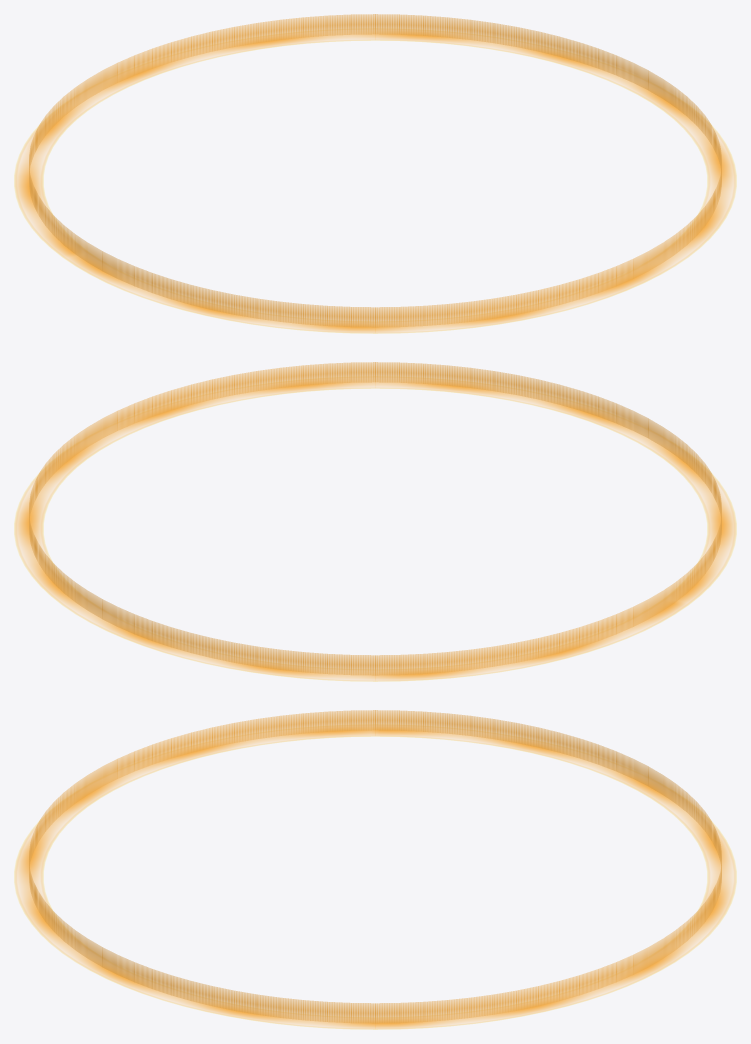
The model's file is fx_mring5.glb.
3 views of the same model, one above another, from view 1: azimuth 30°, elevation 25°; view 2: azimuth 150°, elevation 25°; view 3: azimuth 270°, elevation 25° (orthographic).
Parts seen in each view (by area): view 1: fx_burst; view 2: fx_burst; view 3: fx_burst.
Part boxes in pixels (box(x1,y1,x2,y2)): fx_burst: box(14, 14, 736, 333); fx_burst: box(14, 362, 736, 681); fx_burst: box(14, 710, 736, 1029).
Bounding box in the file's own units: 48.4 × 1.5 × 48.37.
1 material, 1 textured.
